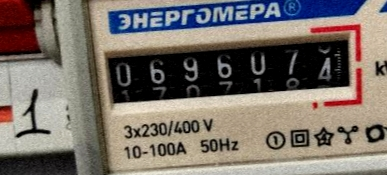0: (113, 59, 136, 89), (250, 47, 270, 77), (149, 57, 168, 84)
4: (316, 55, 335, 84)
6: (215, 49, 235, 80)
7: (283, 45, 303, 75)
9: (182, 53, 202, 83)
screen: (91, 20, 370, 123)
